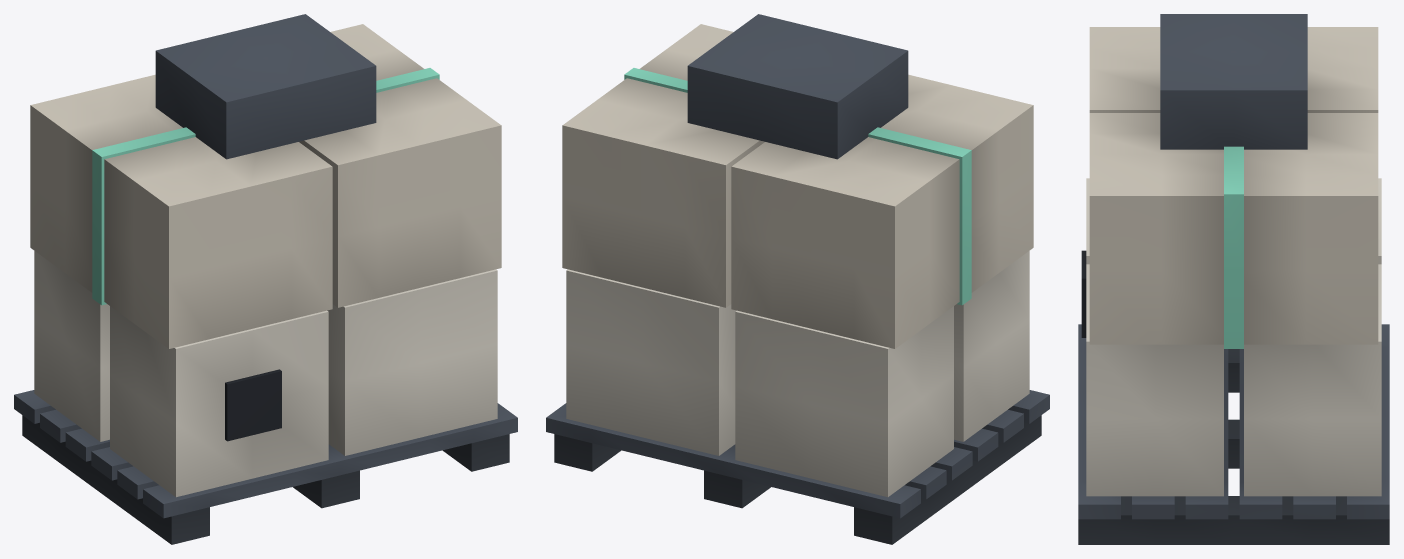
File: CK1_Pallet.glb
The picture shows the model from 3 angles, left to right: view 1: azimuth 30°, elevation 25°; view 2: azimuth 150°, elevation 25°; view 3: azimuth 270°, elevation 25°; orthographic projection. The views are drawn at different scales.
Parts seen in each view (by area): view 1: CK1_Pallet; view 2: CK1_Pallet; view 3: CK1_Pallet.
Boxes of the visible parts, box(x1,y1,x2,y2) form: CK1_Pallet: box(14, 14, 517, 544); CK1_Pallet: box(546, 14, 1049, 544); CK1_Pallet: box(1078, 14, 1389, 544).
Bounding box in the file's own units: 1.3 × 1.37 × 0.95.
